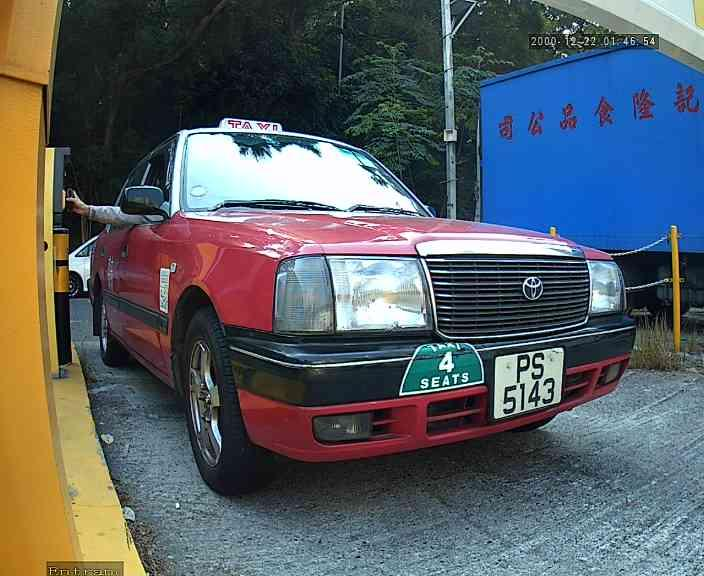Car: (98, 16, 632, 505)
License Plate: (472, 348, 560, 422)
